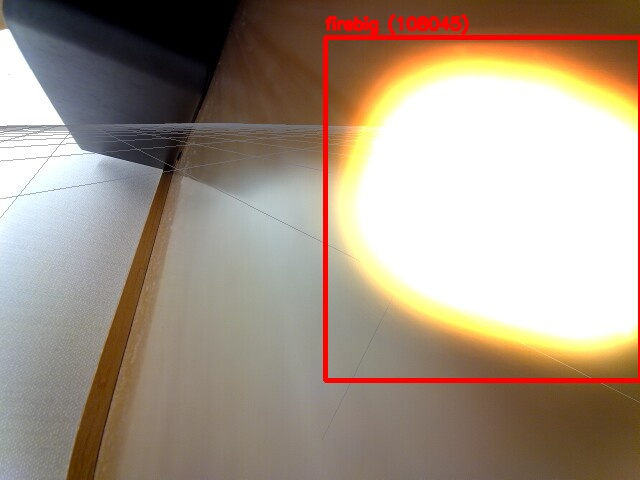firebig: (325, 37, 640, 380)
